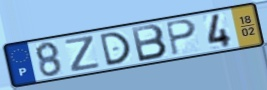4: (206, 12, 234, 49)
8: (35, 41, 64, 78)
B: (129, 23, 170, 64)
D: (98, 30, 133, 68)
P: (164, 18, 199, 57)
Z: (63, 34, 102, 74)
